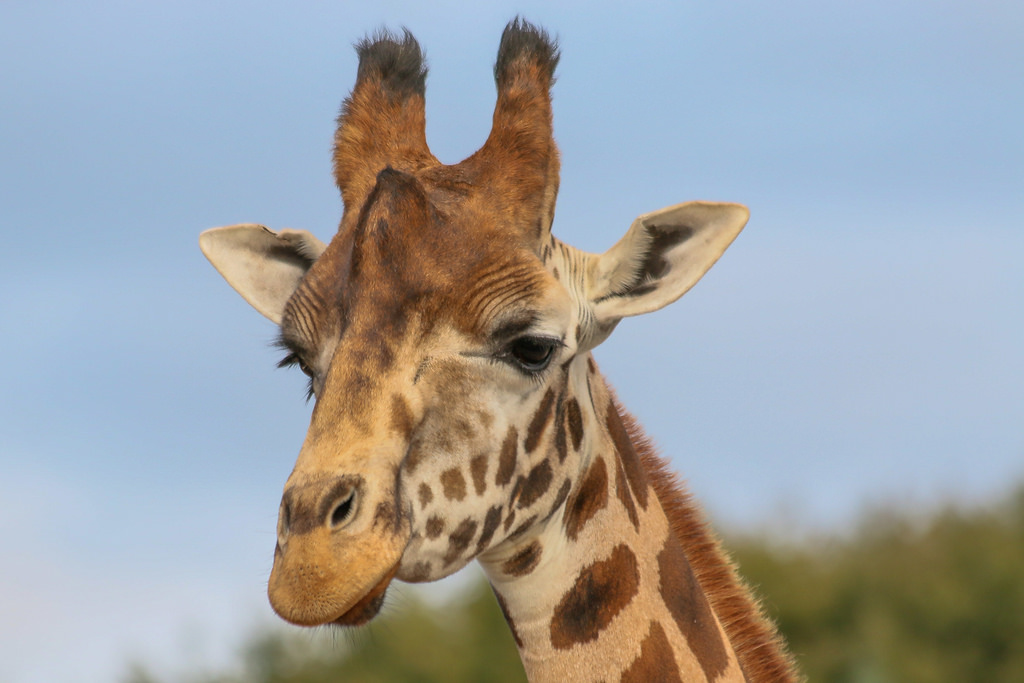giraffe: (211, 8, 822, 671)
